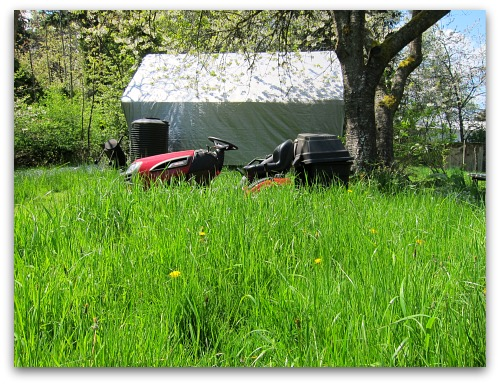grass: (13, 186, 485, 366)
